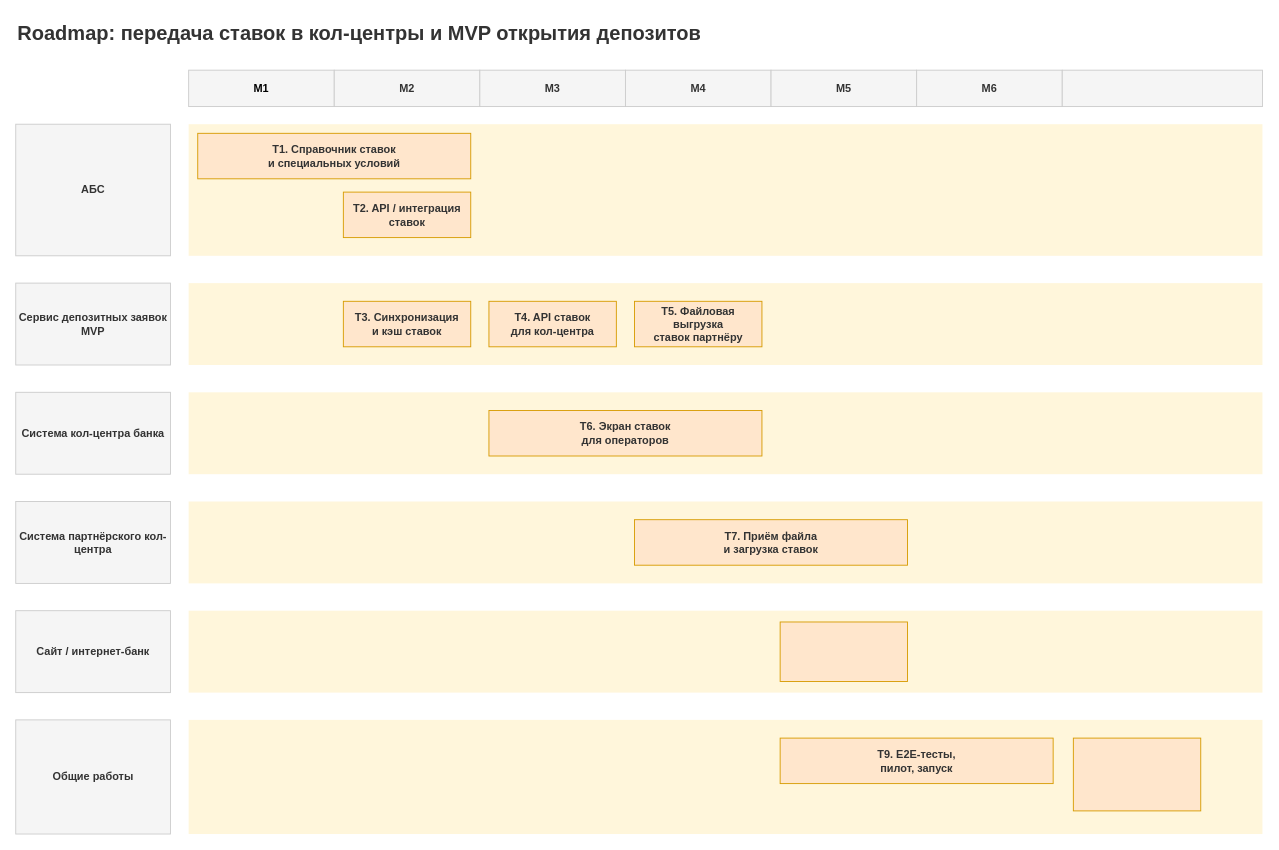
Image size: 1279x850. Some labels were removed from this diagram. Here are the shapes that lost their labels. From the top down, the centre of each, then its label:
At (1161,88): "1 год".
At (843,651): "T8. Подключение ставок к сайту и интернет-банку".
At (1136,774): "Цель 1 года: автооткрытие депозита без бэк-офиса".
